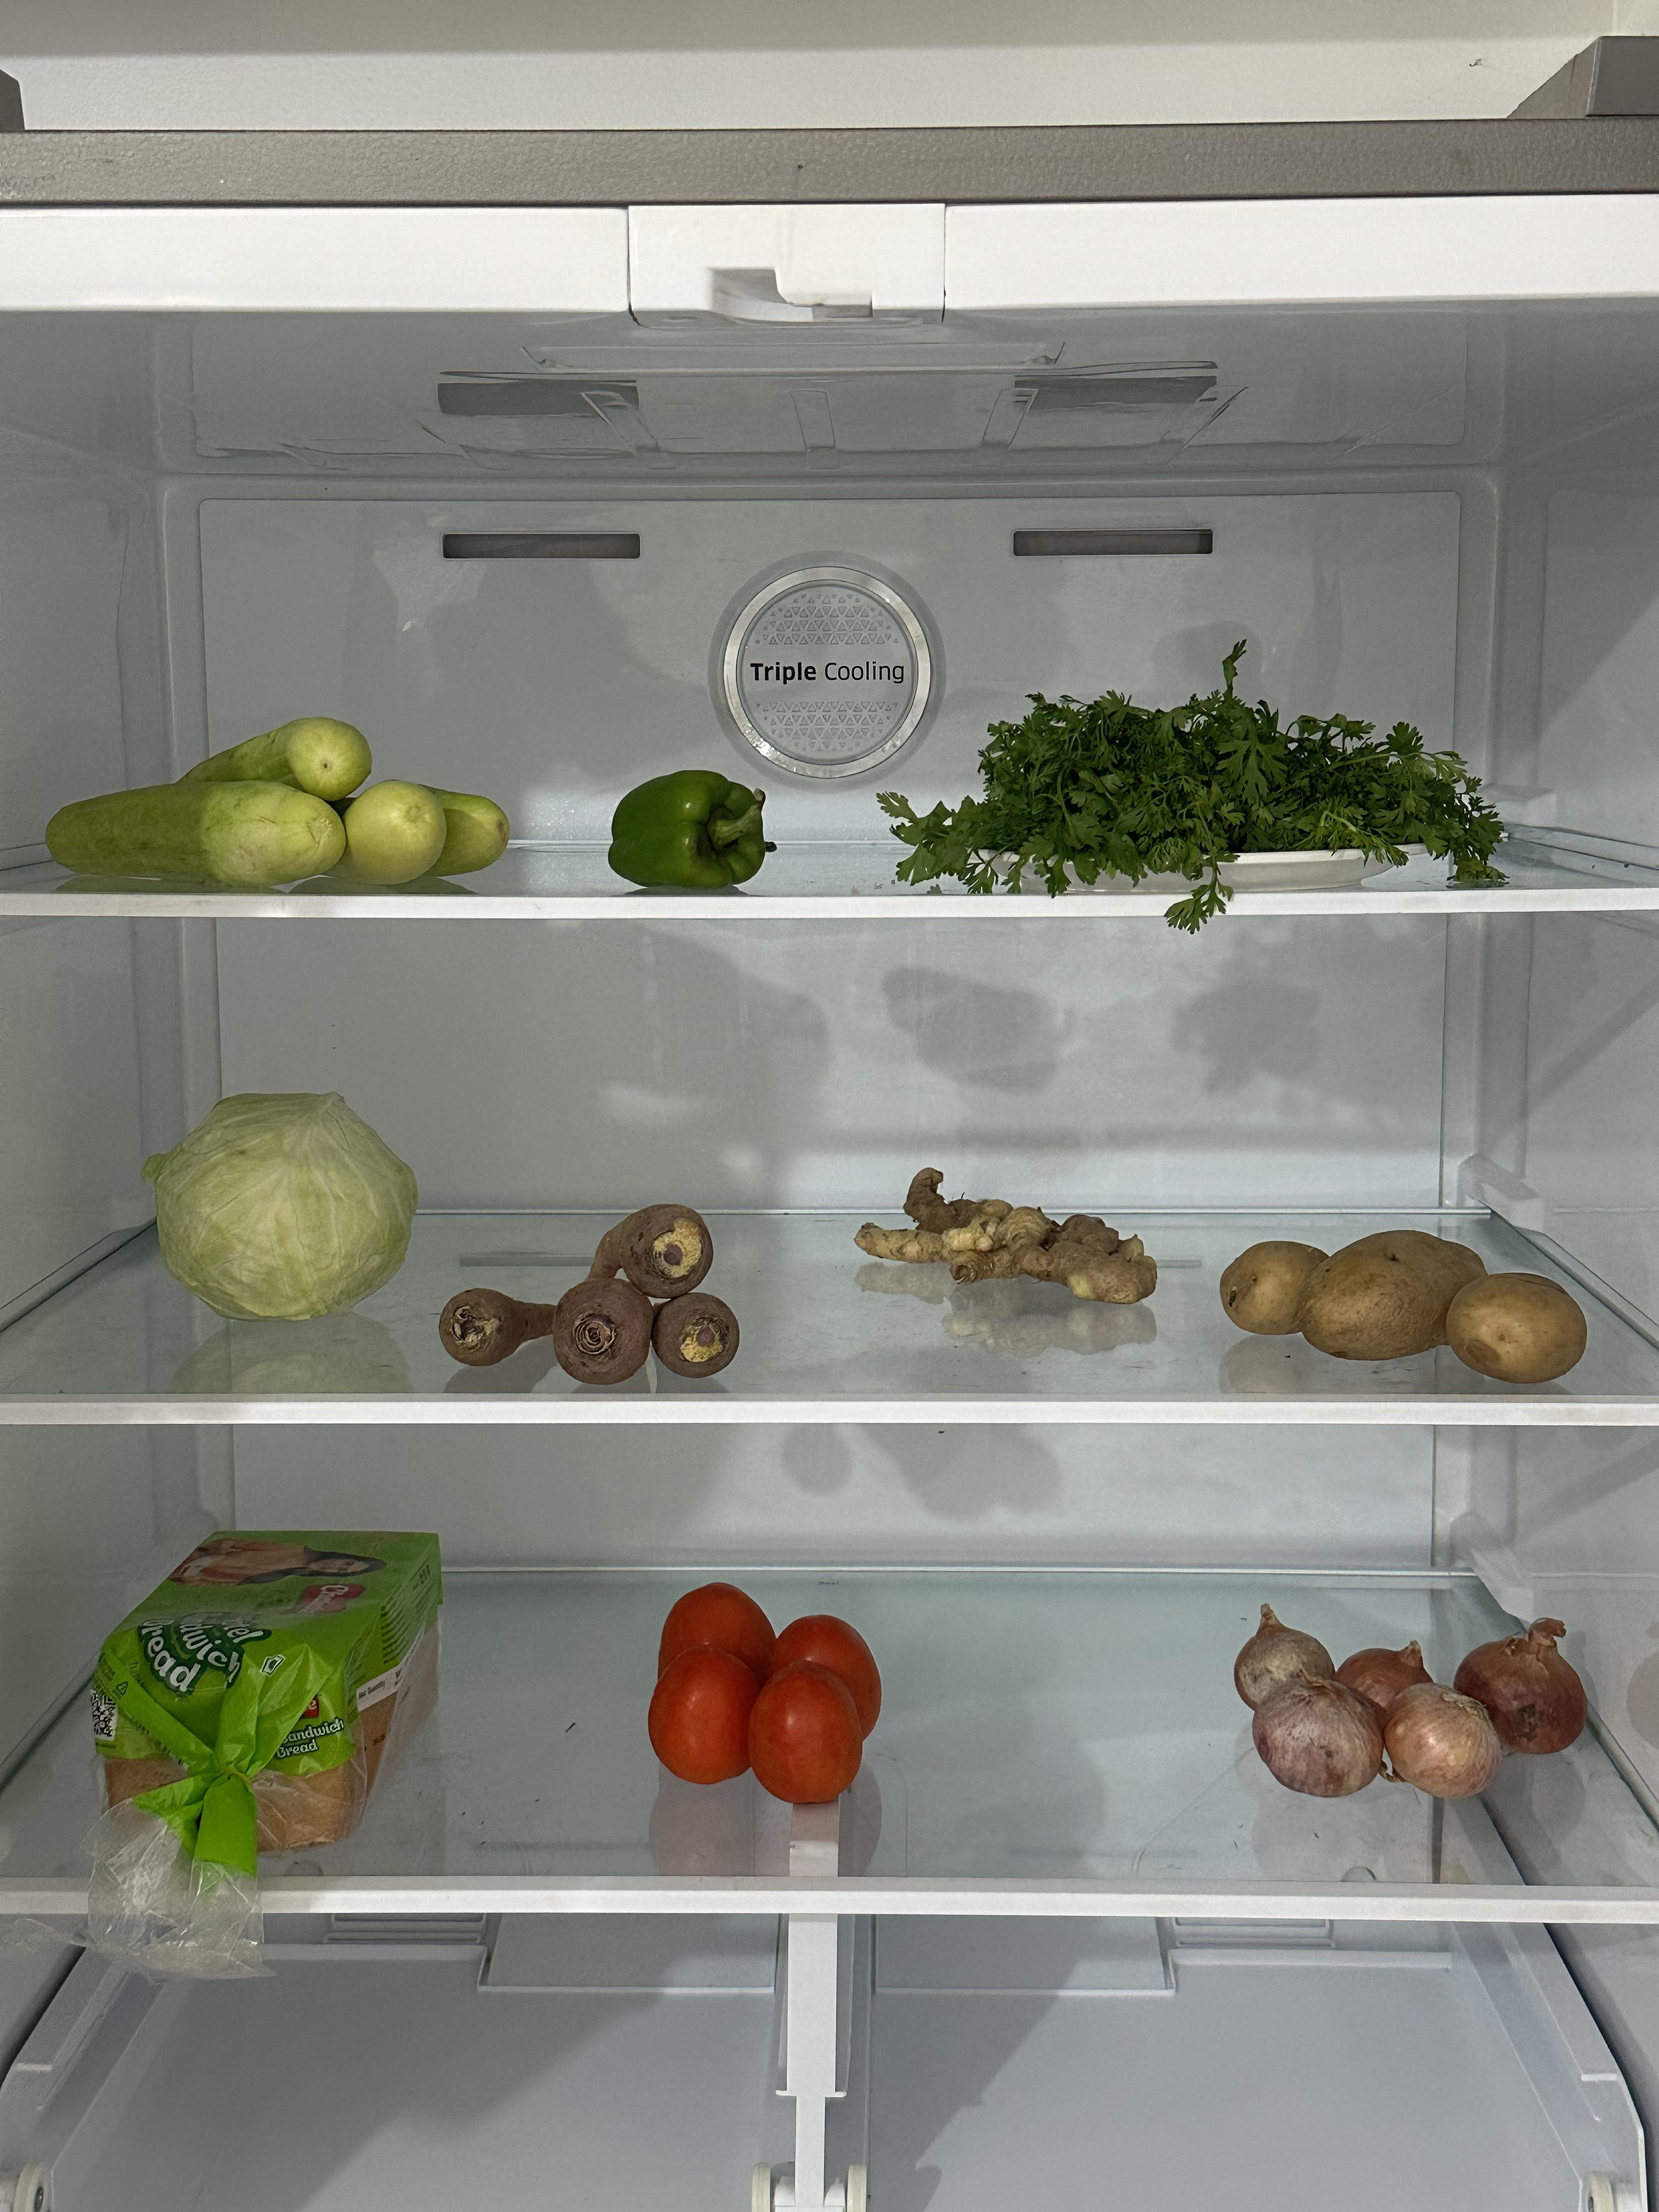bread: (84, 1521, 467, 1857)
cabbage: (155, 1078, 416, 1322)
capsicum: (605, 763, 796, 895)
carrots: (439, 1197, 748, 1392)
coriander: (917, 676, 1521, 899)
cucumber: (37, 697, 516, 911)
ginger: (850, 1148, 1155, 1310)
onion: (1223, 1581, 1601, 1803)
potato: (1218, 1219, 1589, 1395)
tomato: (641, 1564, 889, 1810)
